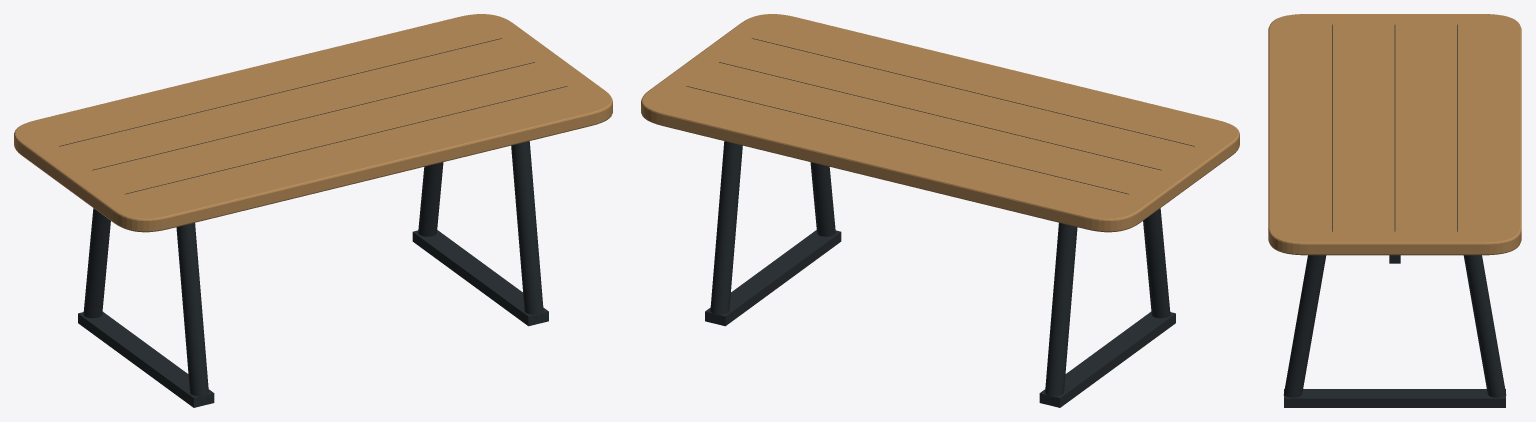
File: dining-table.glb
3 renders of one model, left to right at view 1: azimuth 30°, elevation 25°; view 2: azimuth 150°, elevation 25°; view 3: azimuth 270°, elevation 25°, orthographic. The views are drawn at different scales.
Parts seen in each view (by area): view 1: RoundedOakTabletop, Trestle_-0.65_1, Trestle_0.65_1, Foot_0.65, Foot_-0.65, Trestle_-0.65_-1, Trestle_0.65_-1; view 2: RoundedOakTabletop, Trestle_-0.65_-1, Trestle_0.65_-1, Foot_0.65, Foot_-0.65, Trestle_-0.65_1, Trestle_0.65_1; view 3: RoundedOakTabletop, Foot_0.65, Trestle_0.65_-1, Trestle_0.65_1, BoardJoint_0.
Part boxes in pixels (x1,y1,x2,y2): RoundedOakTabletop: (14,14,612,232); Trestle_-0.65_1: (176,223,208,397); Trestle_0.65_1: (511,141,543,315); Foot_0.65: (412,230,548,326); Foot_-0.65: (78,312,214,407); Trestle_-0.65_-1: (83,208,110,318); Trestle_0.65_-1: (418,162,443,236); RoundedOakTabletop: (641,14,1239,232); Trestle_-0.65_-1: (1045,223,1077,397); Trestle_0.65_-1: (710,141,742,315); Foot_0.65: (705,230,841,326); Foot_-0.65: (1039,312,1175,407); Trestle_-0.65_1: (1143,208,1170,318); Trestle_0.65_1: (810,162,835,236); RoundedOakTabletop: (1268,14,1521,255); Foot_0.65: (1284,389,1505,407); Trestle_0.65_-1: (1463,255,1506,397); Trestle_0.65_1: (1283,255,1326,397); BoardJoint_0: (1394,25,1395,231).
Size of the model in its own units: 1.91 by 0.7648 by 0.892.
